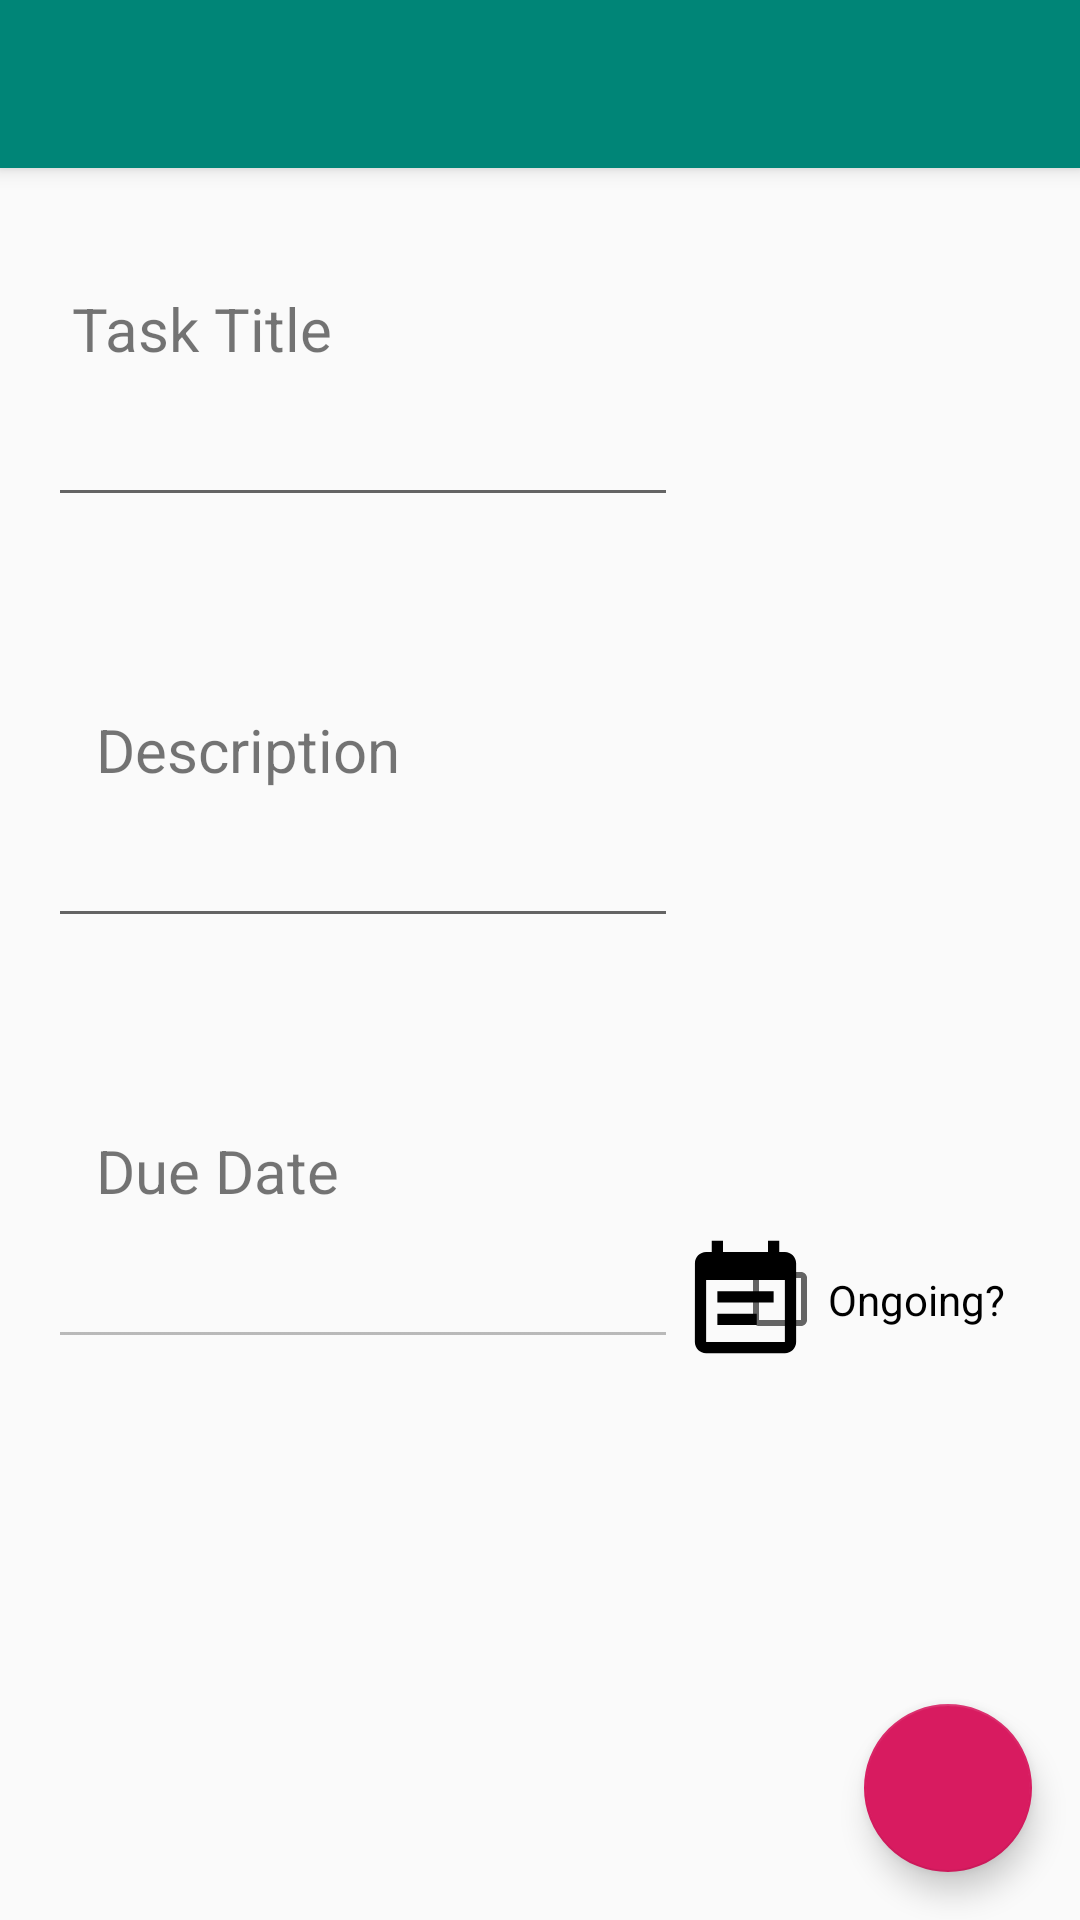

Icon click points for this 1080px×1920px phone screenshot, format [x,y]:
Calendar Select: [750,1297]
